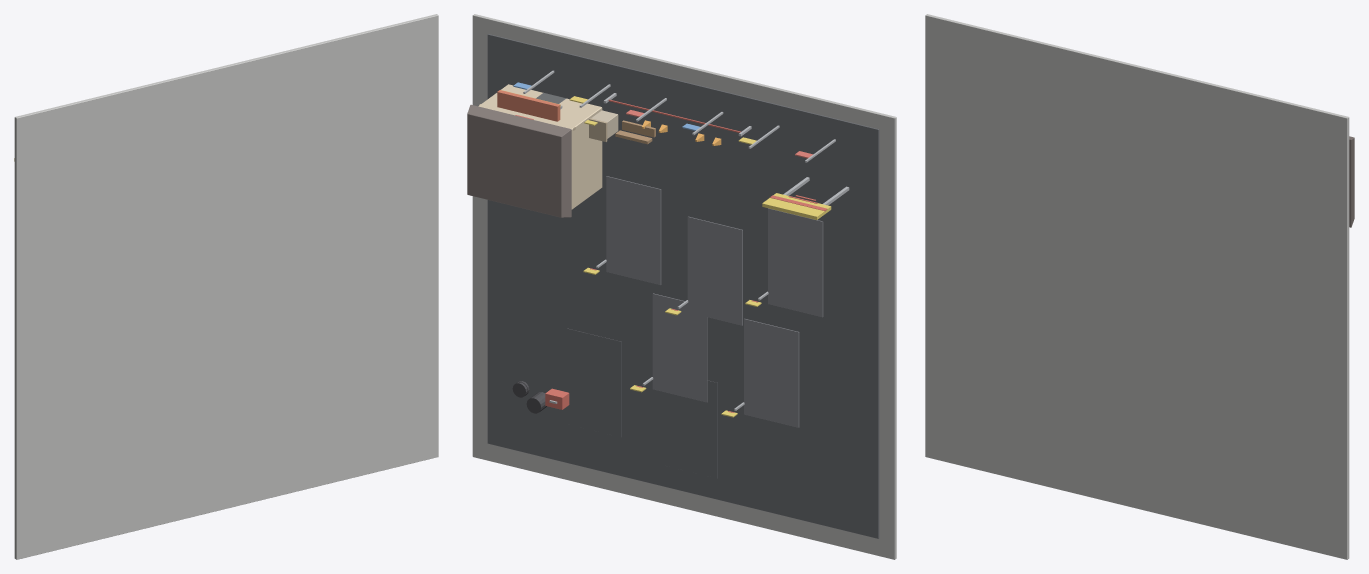
The model's file is carmarket.fbx.
The picture shows the model from 3 angles, left to right: view 1: azimuth 30°, elevation 25°; view 2: azimuth 150°, elevation 25°; view 3: azimuth 330°, elevation 25°; orthographic projection.
Visible parts, largest first — view 1: GroundBase; view 2: AsphaltLot, GroundBase, SalesOffice_Roof, DisplayPad_04, DisplayPad_03, DisplayPad_02, DisplayPad_01, EmptyDisplaySpace_02, DisplayPad_05, EmptyDisplaySpace_01, FrontApron, SalesOffice (+2 smaller); view 3: GroundBase, SalesOffice_Roof.
Part boxes in pixels (x1=…): GroundBase: x1=14, y1=14, x2=438, y2=559; AsphaltLot: x1=487, y1=34, x2=879, y2=538; GroundBase: x1=472, y1=14, x2=896, y2=559; SalesOffice_Roof: x1=467, y1=104, x2=571, y2=217; DisplayPad_04: x1=744, y1=318, x2=799, y2=427; DisplayPad_03: x1=606, y1=176, x2=661, y2=284; DisplayPad_02: x1=687, y1=216, x2=742, y2=325; DisplayPad_01: x1=768, y1=208, x2=823, y2=317; EmptyDisplaySpace_02: x1=567, y1=328, x2=621, y2=437; DisplayPad_05: x1=652, y1=293, x2=707, y2=402; EmptyDisplaySpace_01: x1=662, y1=380, x2=717, y2=478; FrontApron: x1=505, y1=64, x2=860, y2=181; SalesOffice: x1=478, y1=84, x2=602, y2=209; GroundBase: x1=925, y1=14, x2=1349, y2=559; SalesOffice_Roof: x1=1349, y1=136, x2=1354, y2=227.
Bounding box in the file's own units: 1500 × 1500 × 266.
